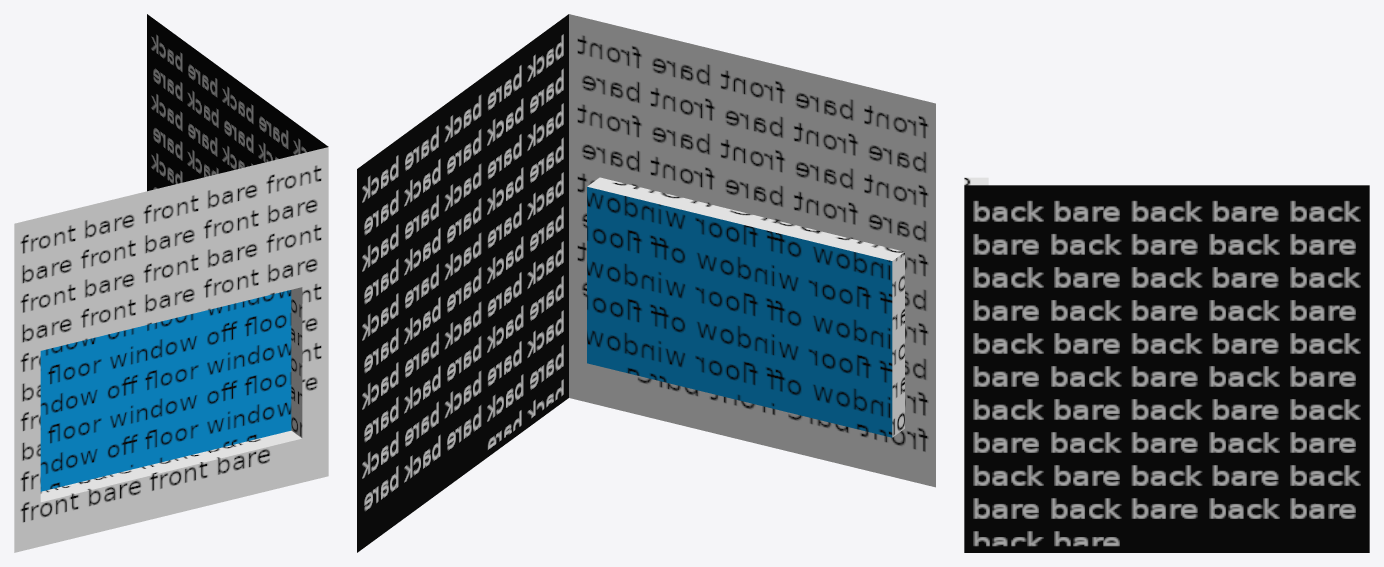
File: right_edge_window_off_floor.gltf
The picture shows the model from 3 angles, left to right: view 1: azimuth 30°, elevation 25°; view 2: azimuth 150°, elevation 25°; view 3: azimuth 270°, elevation 25°; orthographic projection. The views are drawn at different scales.
Parts seen in each view (by area): view 1: right_edge_window_off_floor; view 2: right_edge_window_off_floor; view 3: right_edge_window_off_floor.
Part boxes in pixels (left/top/right/bottom): right_edge_window_off_floor: left=14, top=14, right=328, bottom=552; right_edge_window_off_floor: left=357, top=14, right=935, bottom=552; right_edge_window_off_floor: left=964, top=177, right=1369, bottom=552.
Bounding box in the file's own units: 5 × 5 × 5.
3 materials, 3 textured.
